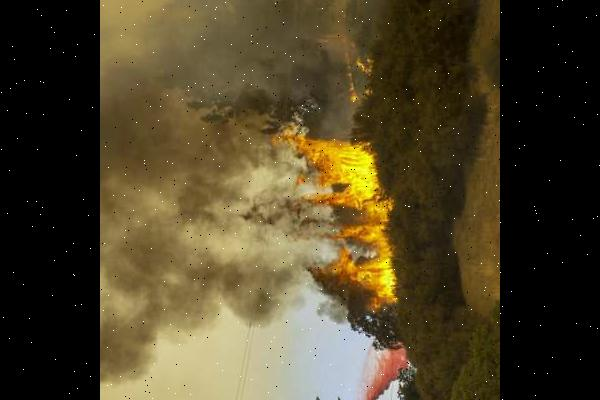fire: (260, 127, 414, 316)
